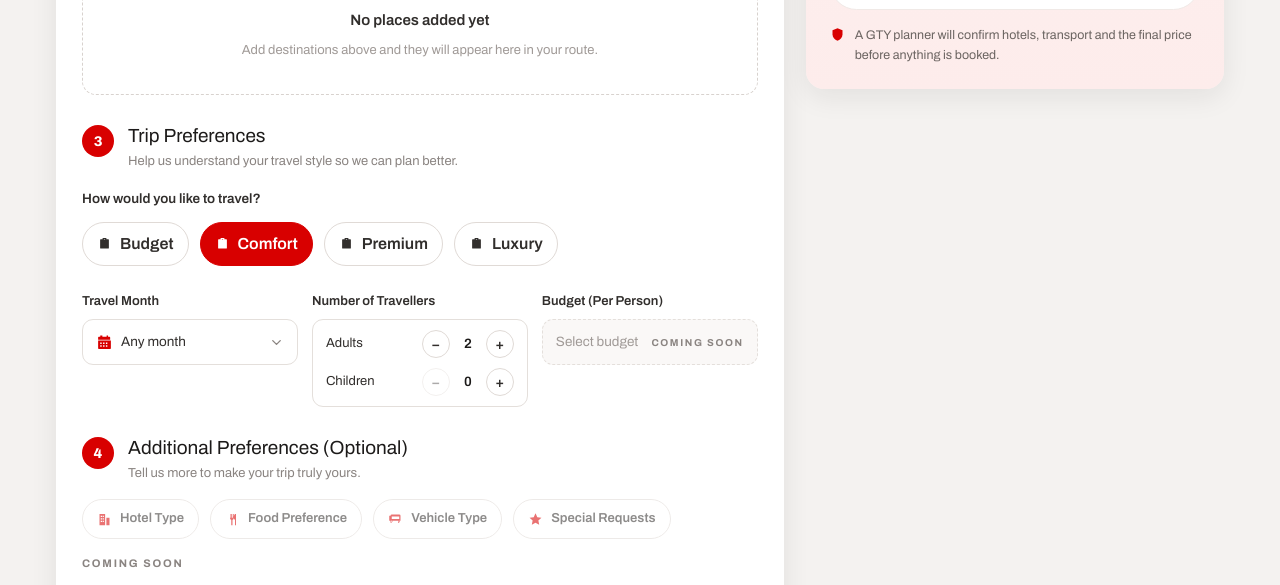
Test: TripBuilder — preferences flow into the summary card › selecting a travel month updates the summary "Travel Month" row
(page scrolled)
Select "November" in the dropdown labelled "Travel Month" at (190, 342), box x1=83 y1=320 x2=297 y2=364
(page scrolled)
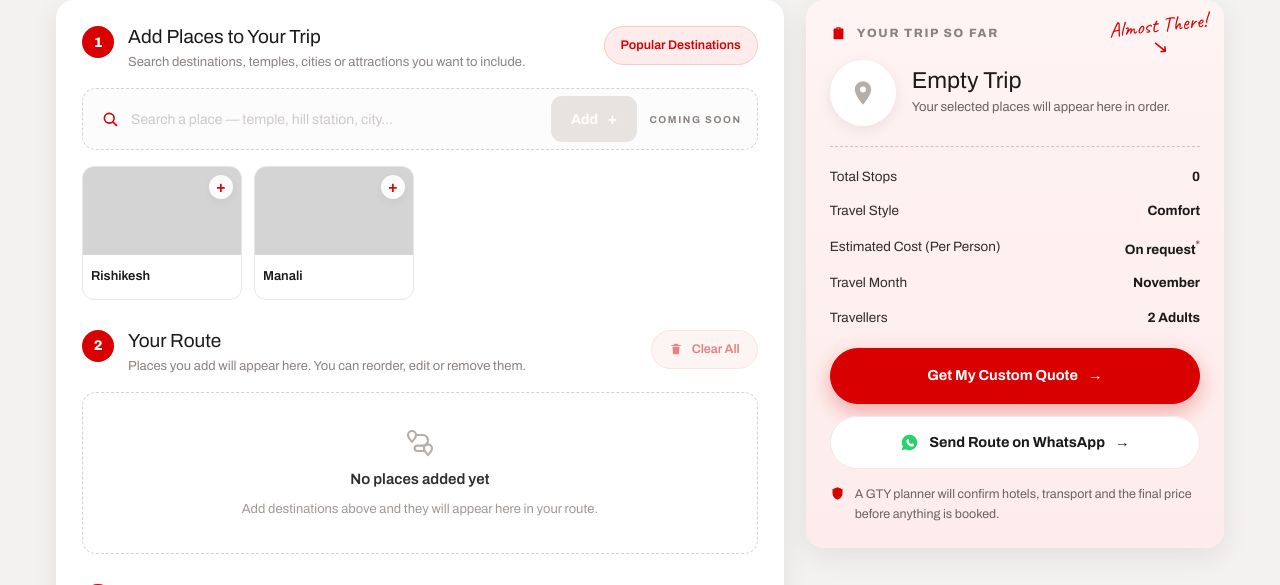
expect the text "November" is shown: met, box x1=1133 y1=273 x2=1200 y2=294
